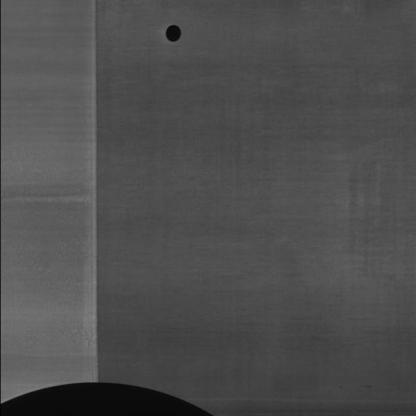punching_hole: (157, 22, 186, 46)
welding_line: (85, 0, 111, 388)
